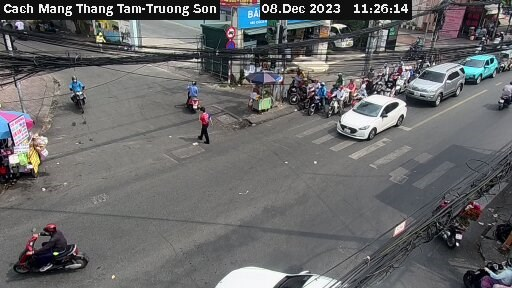car: (334, 93, 406, 144), (405, 61, 467, 109), (455, 47, 499, 84)
motorbike: (8, 227, 94, 279), (421, 187, 473, 249), (461, 250, 509, 288), (60, 80, 104, 119), (174, 82, 220, 113), (322, 89, 347, 114), (301, 88, 324, 113), (494, 83, 512, 107)
